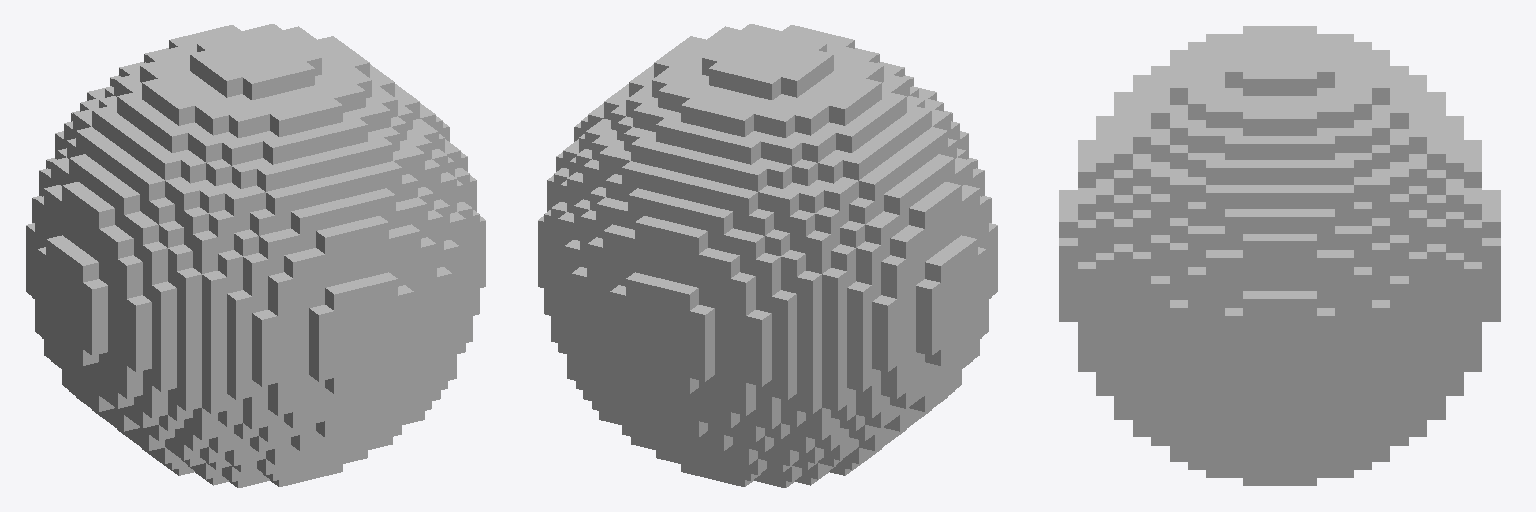
The model's file is mod1.obj.
The picture shows the model from 3 angles: view 1: azimuth 30°, elevation 25°; view 2: azimuth 150°, elevation 25°; view 3: azimuth 270°, elevation 25°; orthographic projection.
Visible parts, largest first — view 1: object 1; view 2: object 1; view 3: object 1.
Part boxes in pixels (left/top/right/bottom): object 1: left=26, top=24, right=485, bottom=487; object 1: left=538, top=24, right=997, bottom=487; object 1: left=1059, top=26, right=1500, bottom=485.
Bounding box in the file's own units: 2.4 × 2.4 × 2.4.